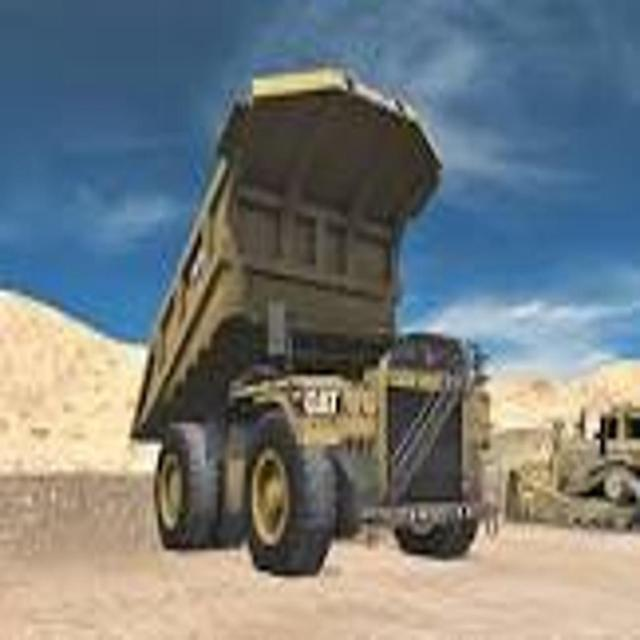dump_truck: (125, 53, 502, 600)
